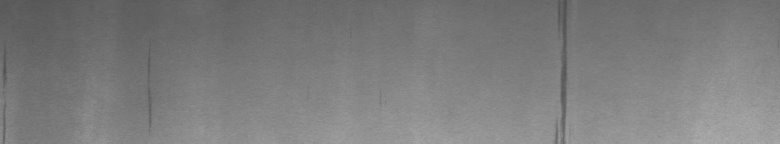hd: (555, 4, 572, 136)
